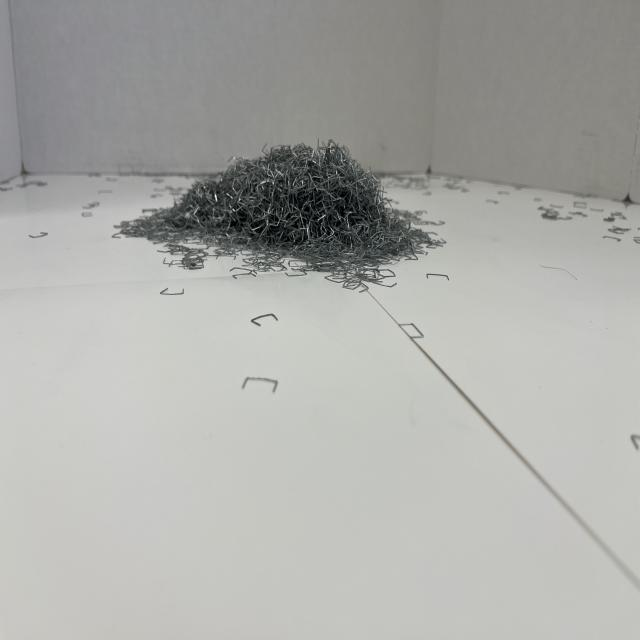staples: (112, 136, 443, 277)
